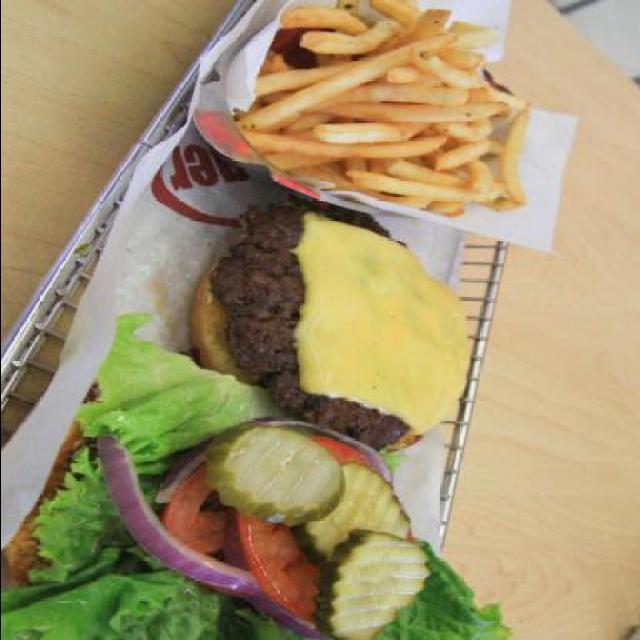Hamburger: (3, 191, 511, 640), (188, 184, 470, 428)
